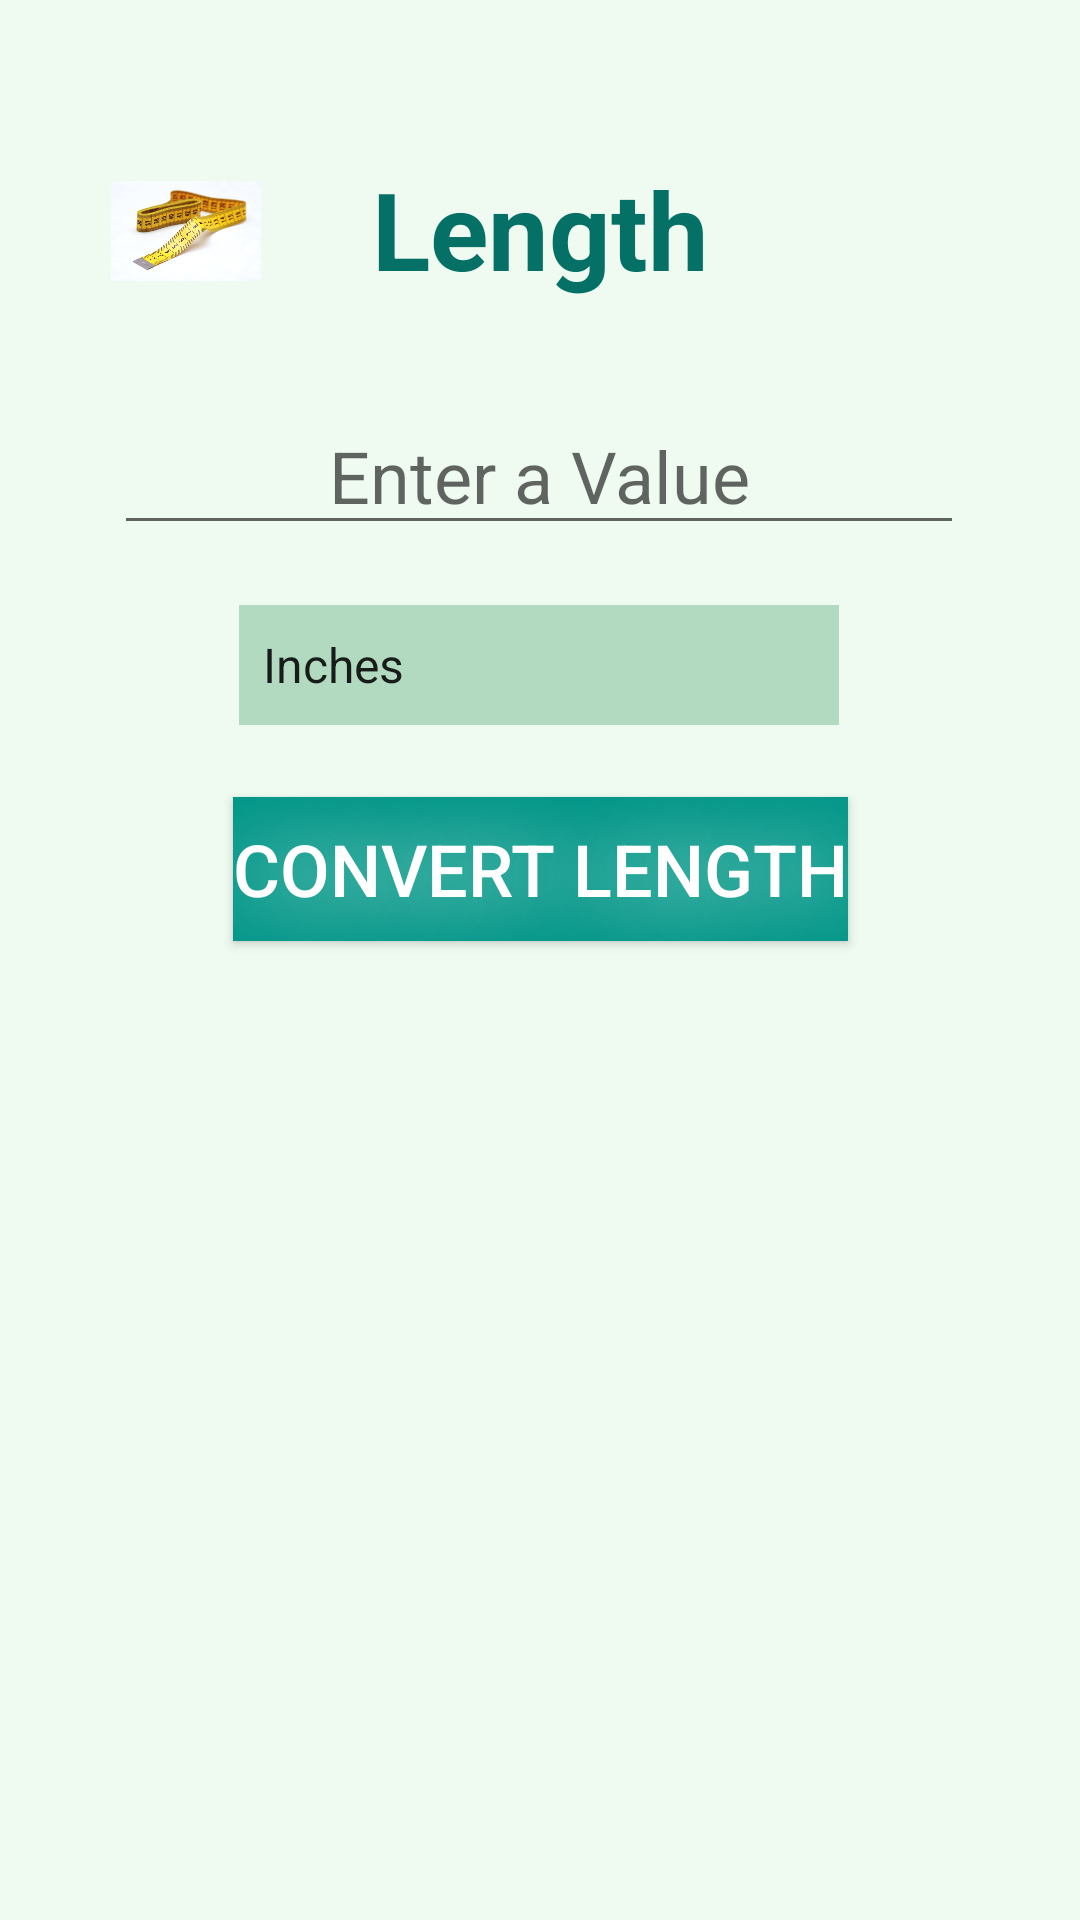

Icons on this 1080 × 1920 Android screen, each with its box as region(x1, y1, x2, y2):
Measure Tape Image: region(133, 190, 247, 270)
